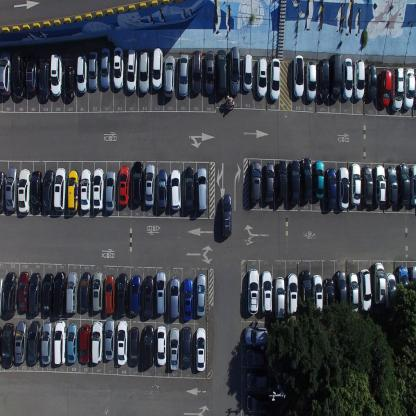car: (2, 271, 16, 318), (12, 50, 25, 100), (27, 270, 41, 316), (373, 260, 387, 306), (13, 320, 27, 365), (52, 271, 66, 316), (25, 52, 39, 96), (330, 52, 342, 102), (335, 270, 348, 316), (183, 164, 196, 210), (66, 168, 79, 214), (53, 167, 66, 213), (17, 168, 30, 214), (5, 166, 18, 212), (2, 322, 15, 368), (244, 370, 271, 392), (397, 162, 410, 207), (125, 48, 138, 92), (244, 347, 271, 368), (300, 156, 312, 203), (65, 271, 78, 314), (276, 158, 288, 204), (142, 323, 154, 369), (247, 267, 259, 313), (261, 268, 273, 314), (54, 319, 66, 365), (244, 325, 270, 346), (347, 272, 359, 317), (196, 166, 208, 211), (168, 326, 180, 371), (116, 272, 128, 317), (41, 271, 53, 316), (42, 168, 54, 213), (50, 53, 62, 98), (163, 54, 175, 99), (274, 274, 286, 319), (41, 320, 53, 365), (28, 319, 40, 364), (0, 51, 12, 96), (216, 49, 227, 97), (204, 50, 216, 94), (191, 49, 203, 93), (129, 273, 141, 317), (17, 270, 29, 314), (30, 170, 42, 214), (112, 46, 124, 90), (300, 268, 312, 312), (392, 67, 404, 111), (397, 265, 410, 305), (385, 165, 398, 205), (379, 68, 392, 108), (156, 168, 168, 211), (182, 277, 194, 320), (142, 275, 154, 318), (91, 321, 103, 364), (103, 273, 115, 316), (79, 168, 91, 211), (360, 267, 372, 310), (286, 271, 298, 314), (289, 160, 300, 206), (116, 320, 127, 366), (132, 160, 143, 206), (170, 168, 182, 210), (128, 326, 140, 368), (312, 272, 324, 314), (385, 271, 397, 313), (325, 167, 337, 209), (374, 164, 386, 206), (169, 275, 180, 320), (144, 163, 155, 208), (177, 52, 188, 97), (155, 325, 167, 366), (361, 165, 373, 206), (75, 52, 87, 93), (230, 46, 240, 95), (246, 393, 273, 411), (269, 57, 280, 101), (257, 55, 268, 99), (152, 46, 163, 90), (195, 272, 206, 316), (181, 326, 192, 370), (138, 50, 149, 94), (105, 169, 116, 213), (92, 167, 103, 211), (293, 53, 304, 97), (221, 193, 232, 237), (338, 166, 349, 210), (318, 57, 329, 101), (79, 272, 91, 312), (38, 62, 50, 102), (353, 59, 365, 99), (366, 62, 378, 102), (118, 164, 129, 207), (324, 276, 335, 319), (350, 163, 361, 206), (305, 61, 317, 100), (66, 322, 77, 364), (242, 54, 254, 92), (196, 327, 206, 372), (156, 271, 166, 316), (63, 64, 75, 101), (251, 160, 261, 204), (264, 160, 274, 204), (104, 318, 114, 362), (79, 324, 90, 364), (92, 270, 102, 314), (343, 57, 353, 101), (100, 46, 110, 89), (405, 67, 415, 110), (314, 159, 324, 200), (88, 50, 98, 91), (408, 263, 416, 304), (0, 170, 6, 212), (410, 164, 416, 206), (0, 276, 4, 318), (0, 325, 3, 367)
